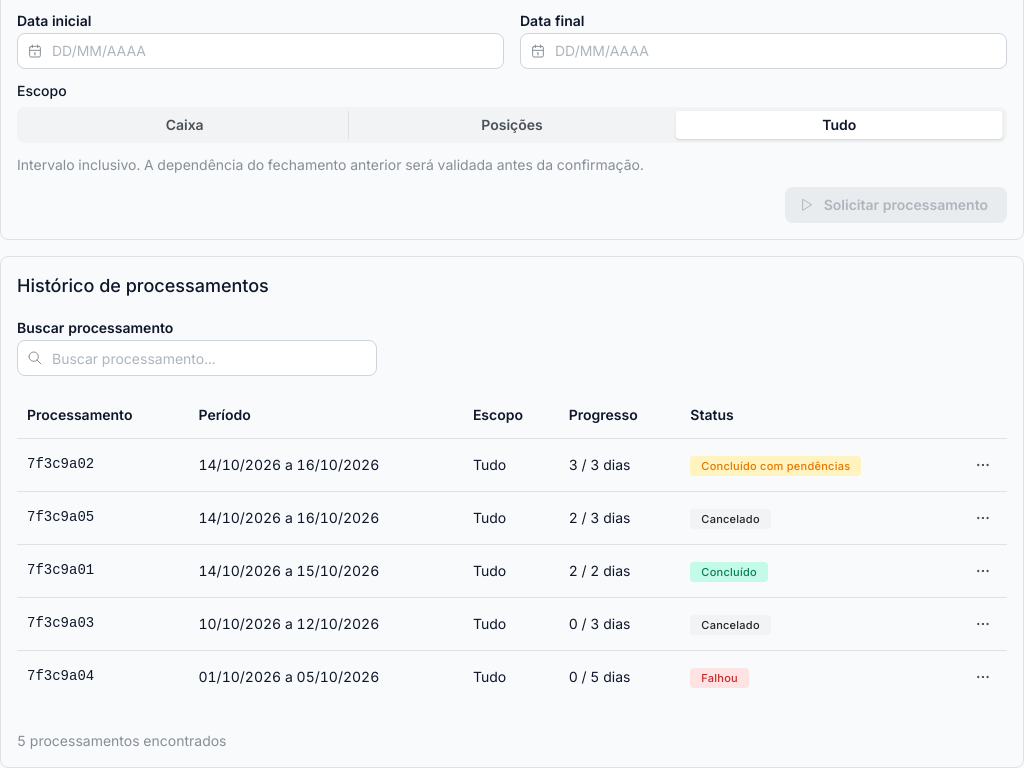
Test: Processamentos: details (§11.1, §10.4) › OQ-23 says a run cancelled before its first date published nothing
(page scrolled)
Click the button named "Ações do processamento" at (983, 624), box [969,610,997,638]
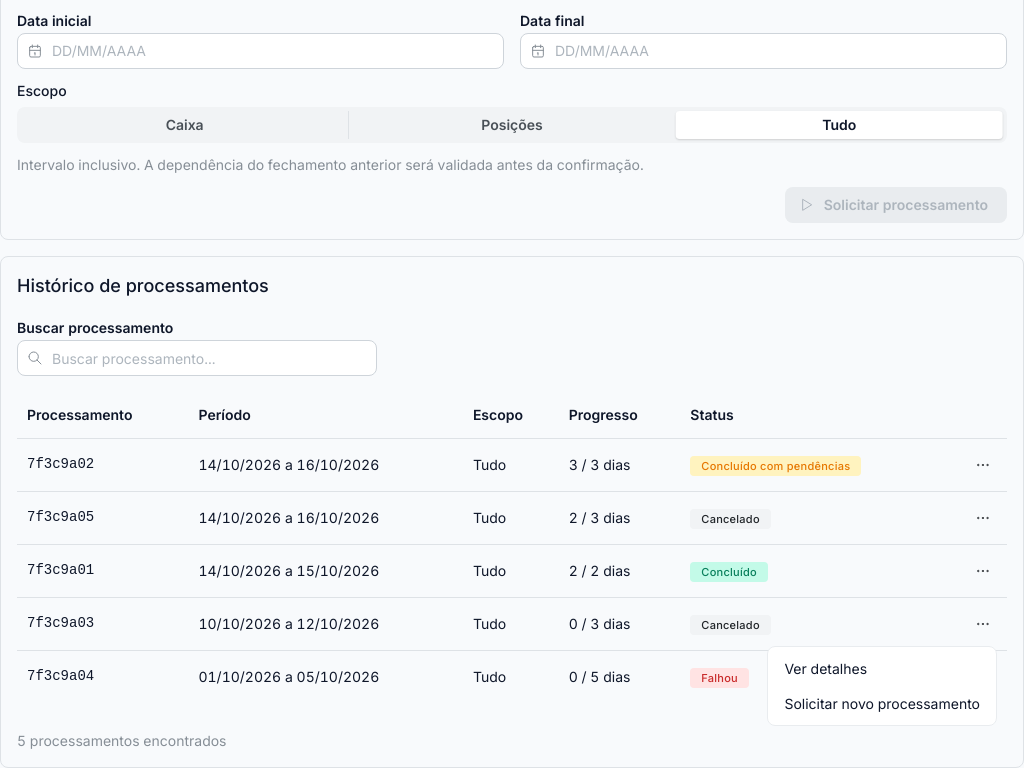
Click the menu item "Ver detalhes" at (882, 668), box [772,651,992,686]
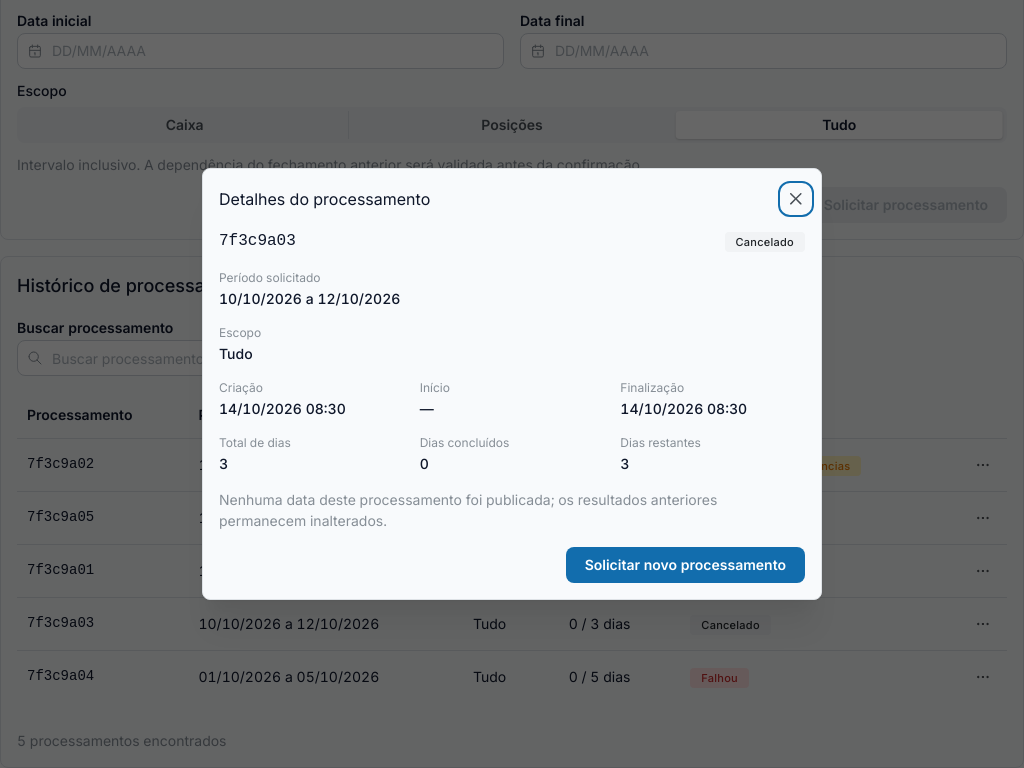
Now the text "Nenhuma data deste processamento foi publicada; os resultados anteriores permanecem inalterados." is shown, box [219,491,717,529]
